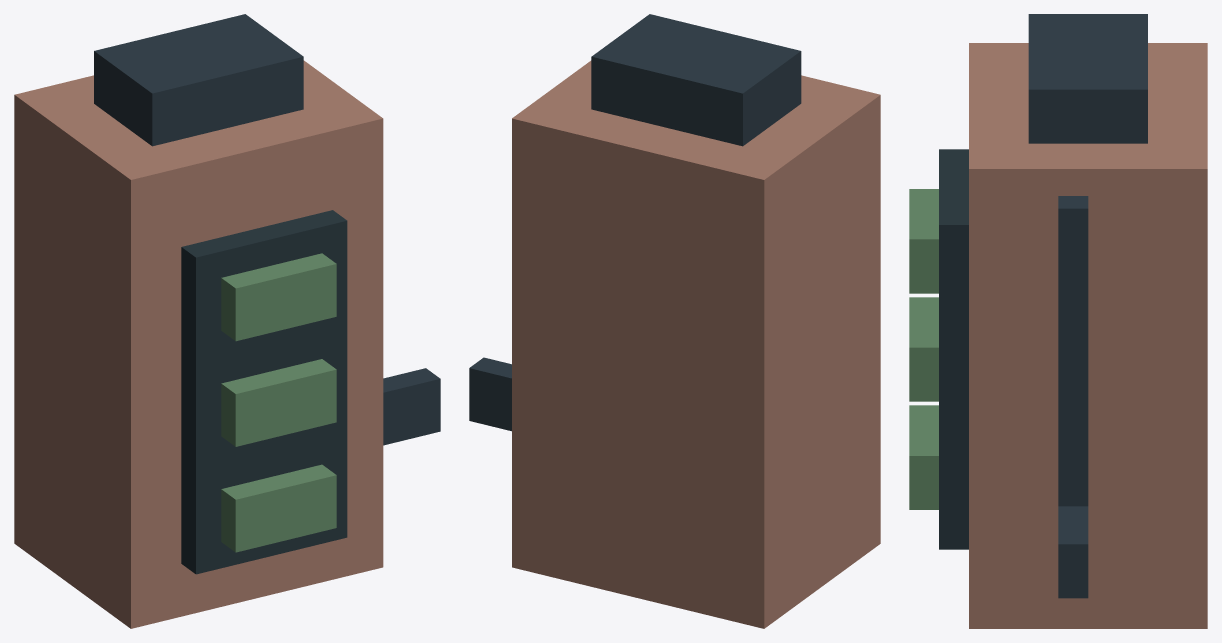
File: automotive-02.glb
3 renders of one model, left to right at view 1: azimuth 30°, elevation 25°; view 2: azimuth 150°, elevation 25°; view 3: azimuth 270°, elevation 25°, orthographic. The views are drawn at different scales.
Parts seen in each view (by area): view 1: Charging station; view 2: Charging station; view 3: Charging station.
Boxes of the visible parts, left/top/right/bottom form: Charging station: left=14, top=14, right=440, bottom=628; Charging station: left=469, top=14, right=880, bottom=628; Charging station: left=909, top=14, right=1207, bottom=628.
Size of the model in its own units: 1.12 by 1.52 by 0.8.
